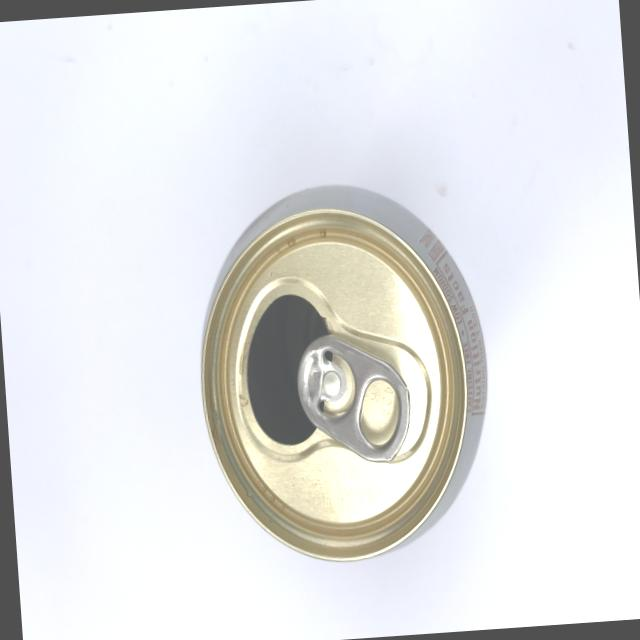Metal: (160, 148, 510, 601)
